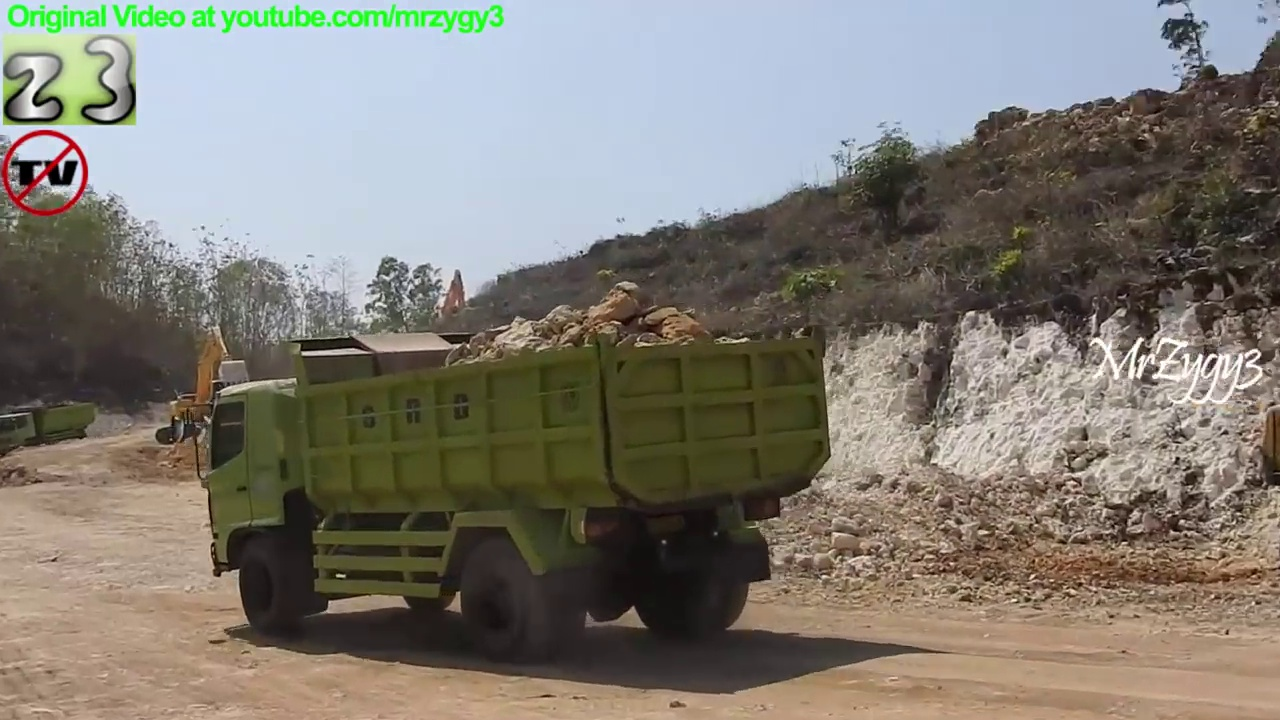excavator: (154, 323, 255, 448), (429, 268, 475, 345)
truck: (171, 324, 837, 667), (1, 399, 102, 455)
